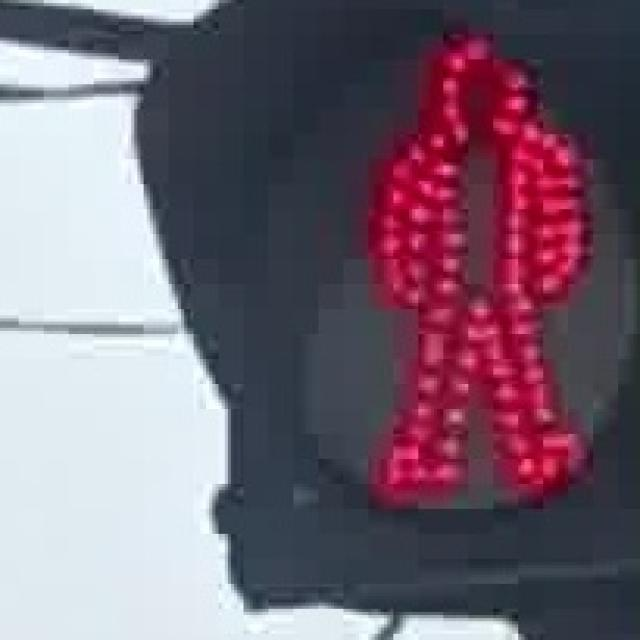red_light: (322, 16, 602, 518)
